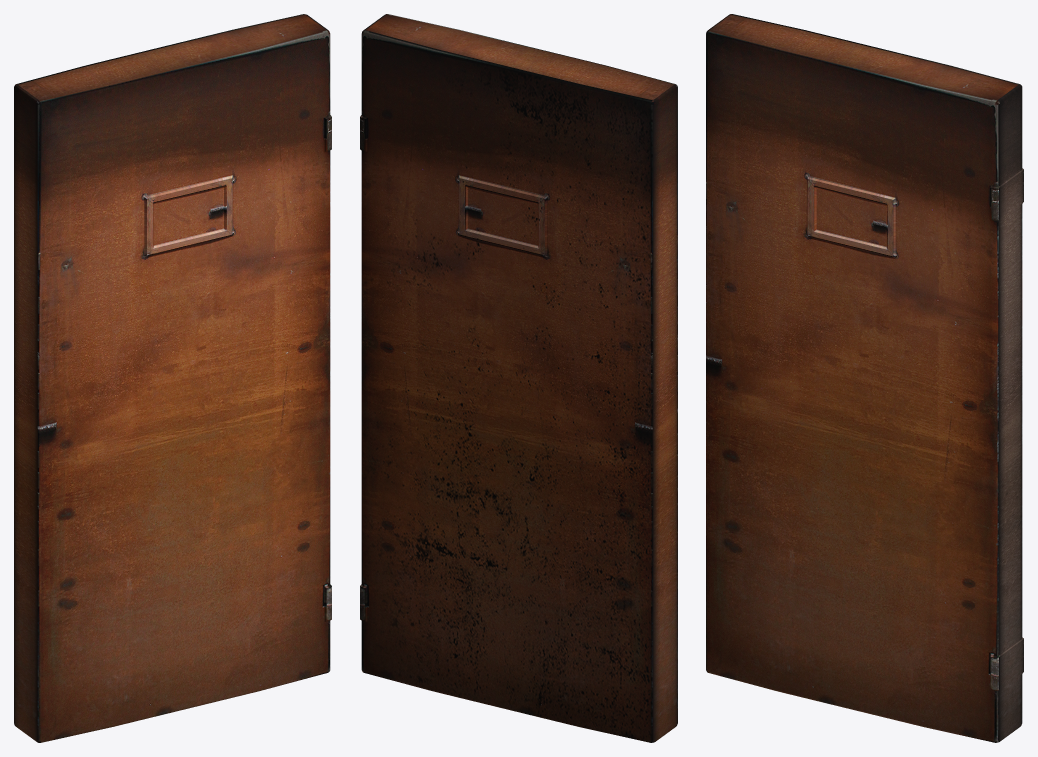
File: puerta.FBX
The picture shows the model from 3 angles, left to right: view 1: azimuth 30°, elevation 25°; view 2: azimuth 150°, elevation 25°; view 3: azimuth 330°, elevation 25°; orthographic projection.
Visible parts, largest first — view 1: Puerta; view 2: Puerta; view 3: Puerta.
Boxes of the visible parts, box(x1,y1,x2,y2) form: Puerta: box(14, 14, 331, 742); Puerta: box(360, 14, 677, 742); Puerta: box(706, 14, 1023, 742).
Bounding box in the file's own units: 102 × 213 × 18.69.
